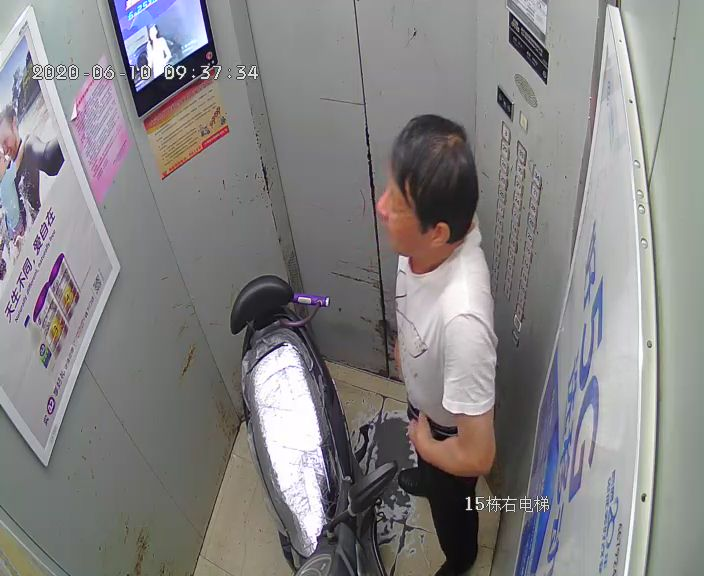Electric-bicycle: (222, 272, 399, 576)
